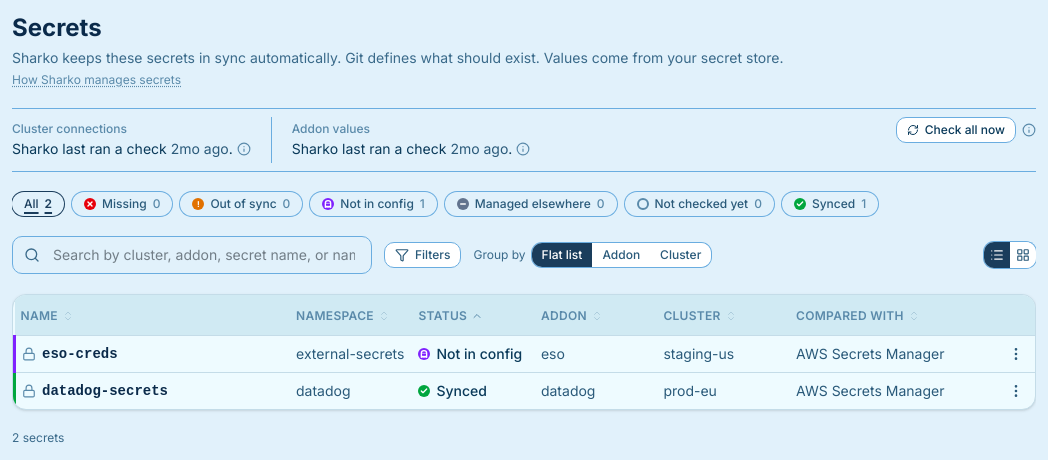
Test case: orphaned rows — the chip and the row › offers Delete only — no Check now, no Sync
Expected: the button with test id "secret-row-orphaned-staging-us-external-secrets-eso-creds" is shown, [14, 335, 1035, 372]
Click the button named "Actions for staging-us / eso" at (1016, 354), box [1000, 338, 1032, 370]
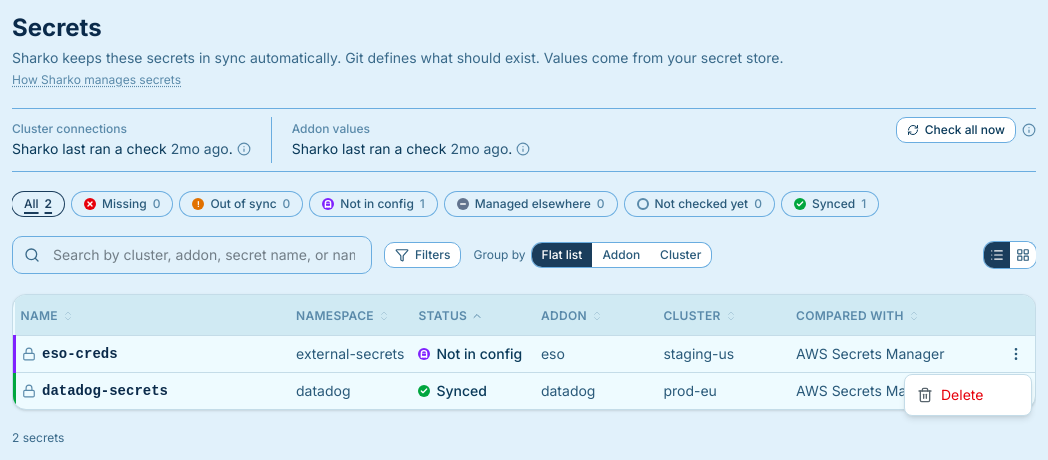
Expected: the menu item "Delete" is shown, [917, 386, 983, 403]
